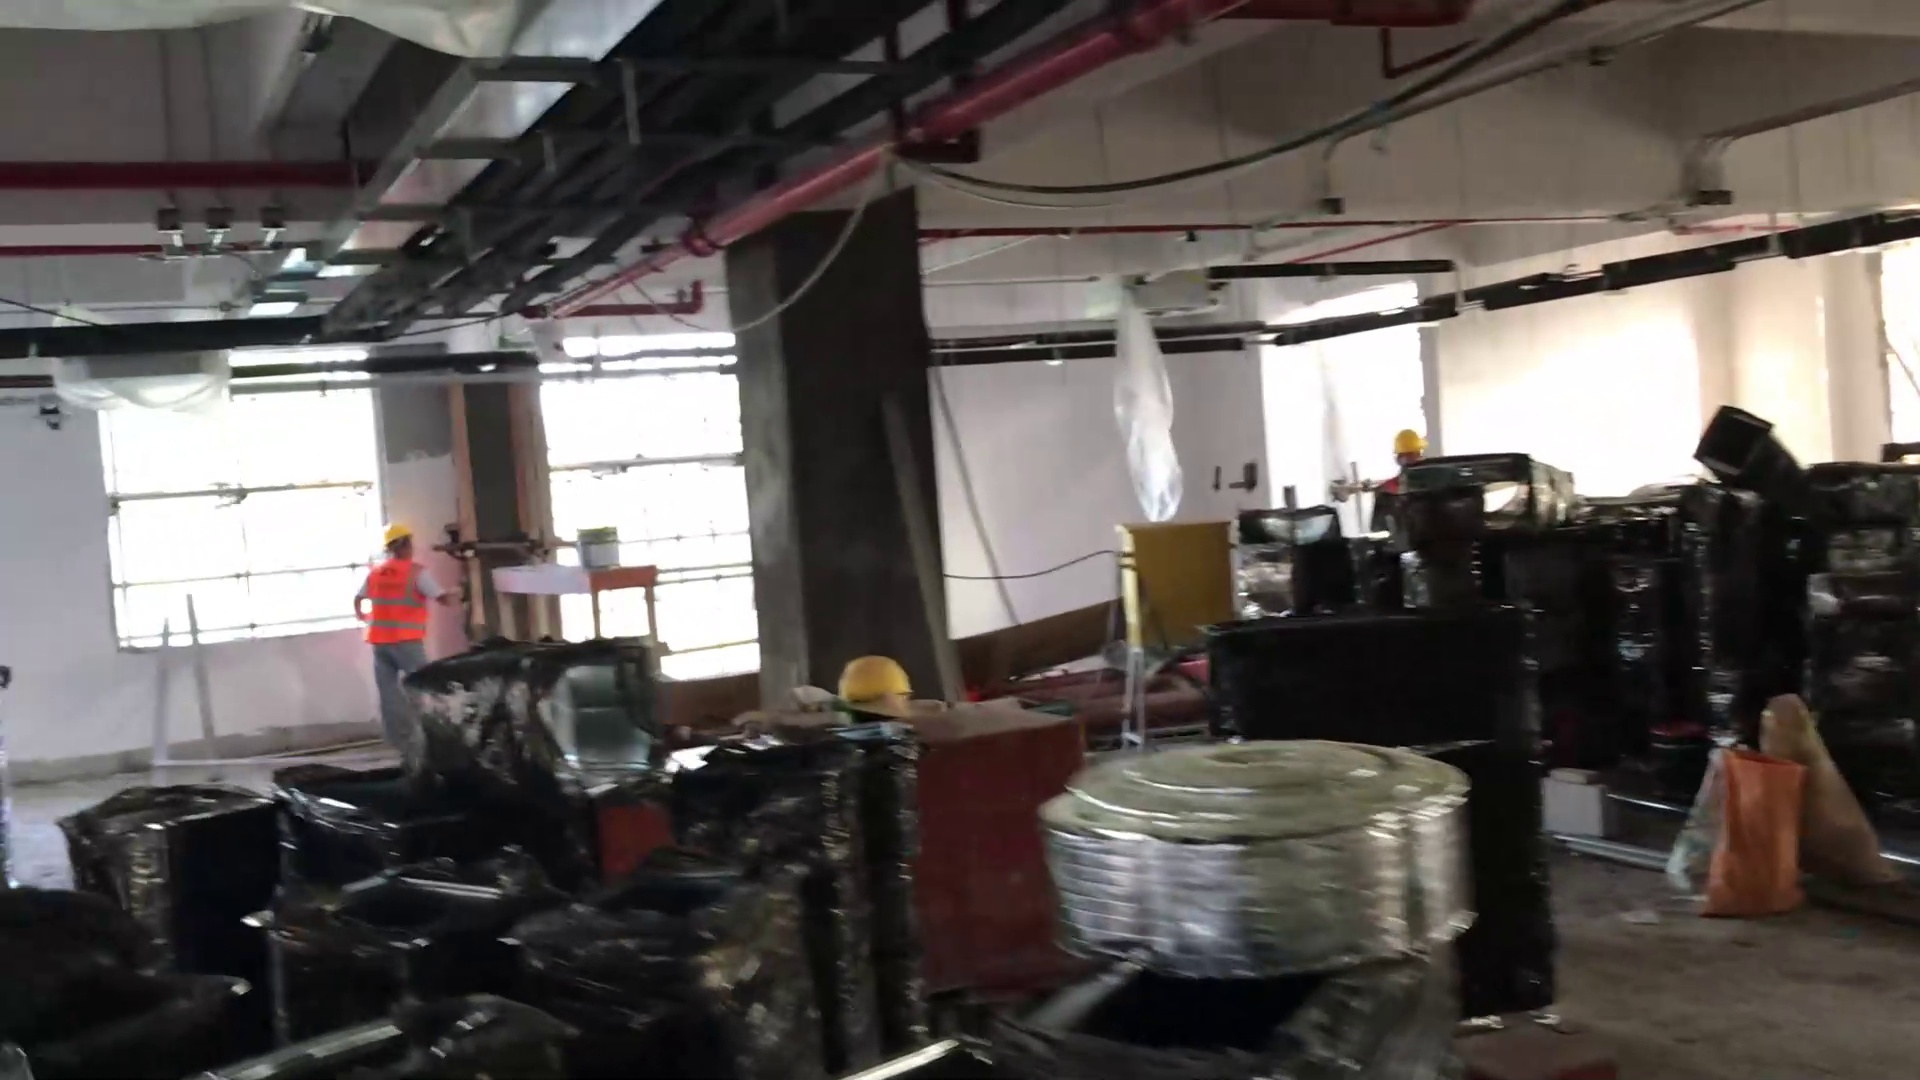helmet: (830, 656, 909, 700), (383, 522, 417, 550), (1396, 428, 1420, 457)
person: (367, 519, 455, 736), (1373, 426, 1435, 526)
vest: (361, 555, 433, 651)
